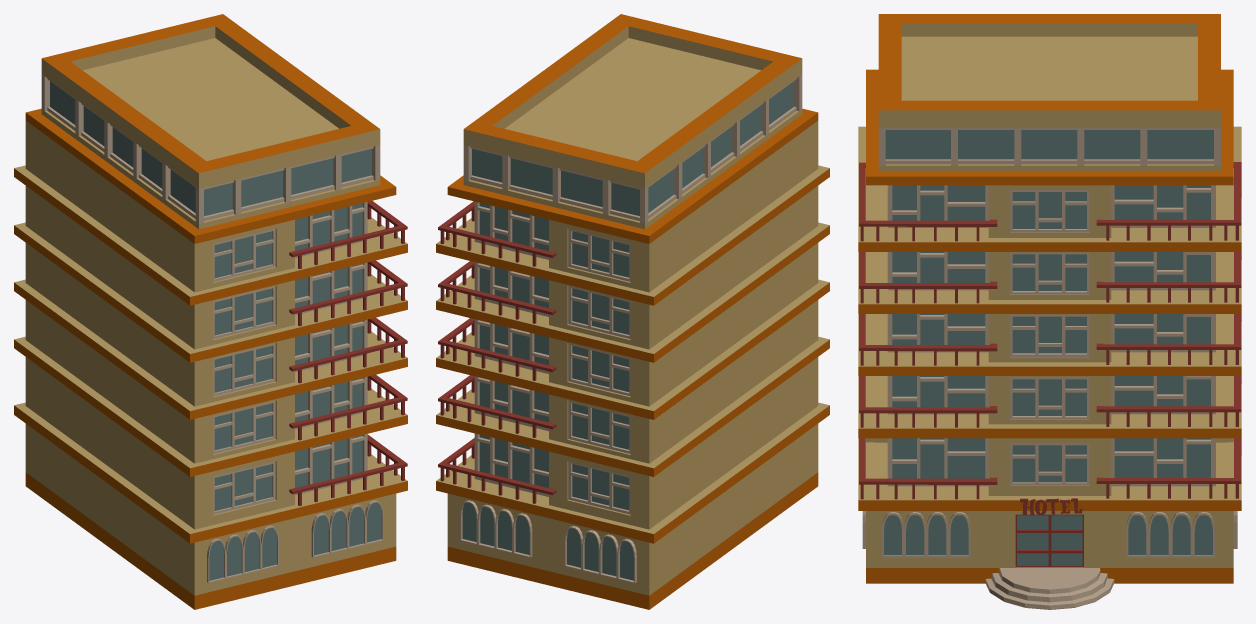
The model's file is Hotel.glb.
The picture shows the model from 3 angles, left to right: view 1: azimuth 30°, elevation 25°; view 2: azimuth 150°, elevation 25°; view 3: azimuth 270°, elevation 25°; orthographic projection. The views are drawn at different scales.
Parts seen in each view (by area): view 1: Hotel(3star); view 2: Hotel(3star); view 3: Hotel(3star).
Part boxes in pixels (left/top/right/bottom): Hotel(3star): left=14, top=14, right=407, bottom=609; Hotel(3star): left=436, top=14, right=829, bottom=609; Hotel(3star): left=858, top=14, right=1241, bottom=609.
Bounding box in the file's own units: 15.54 × 24.55 × 18.24.
